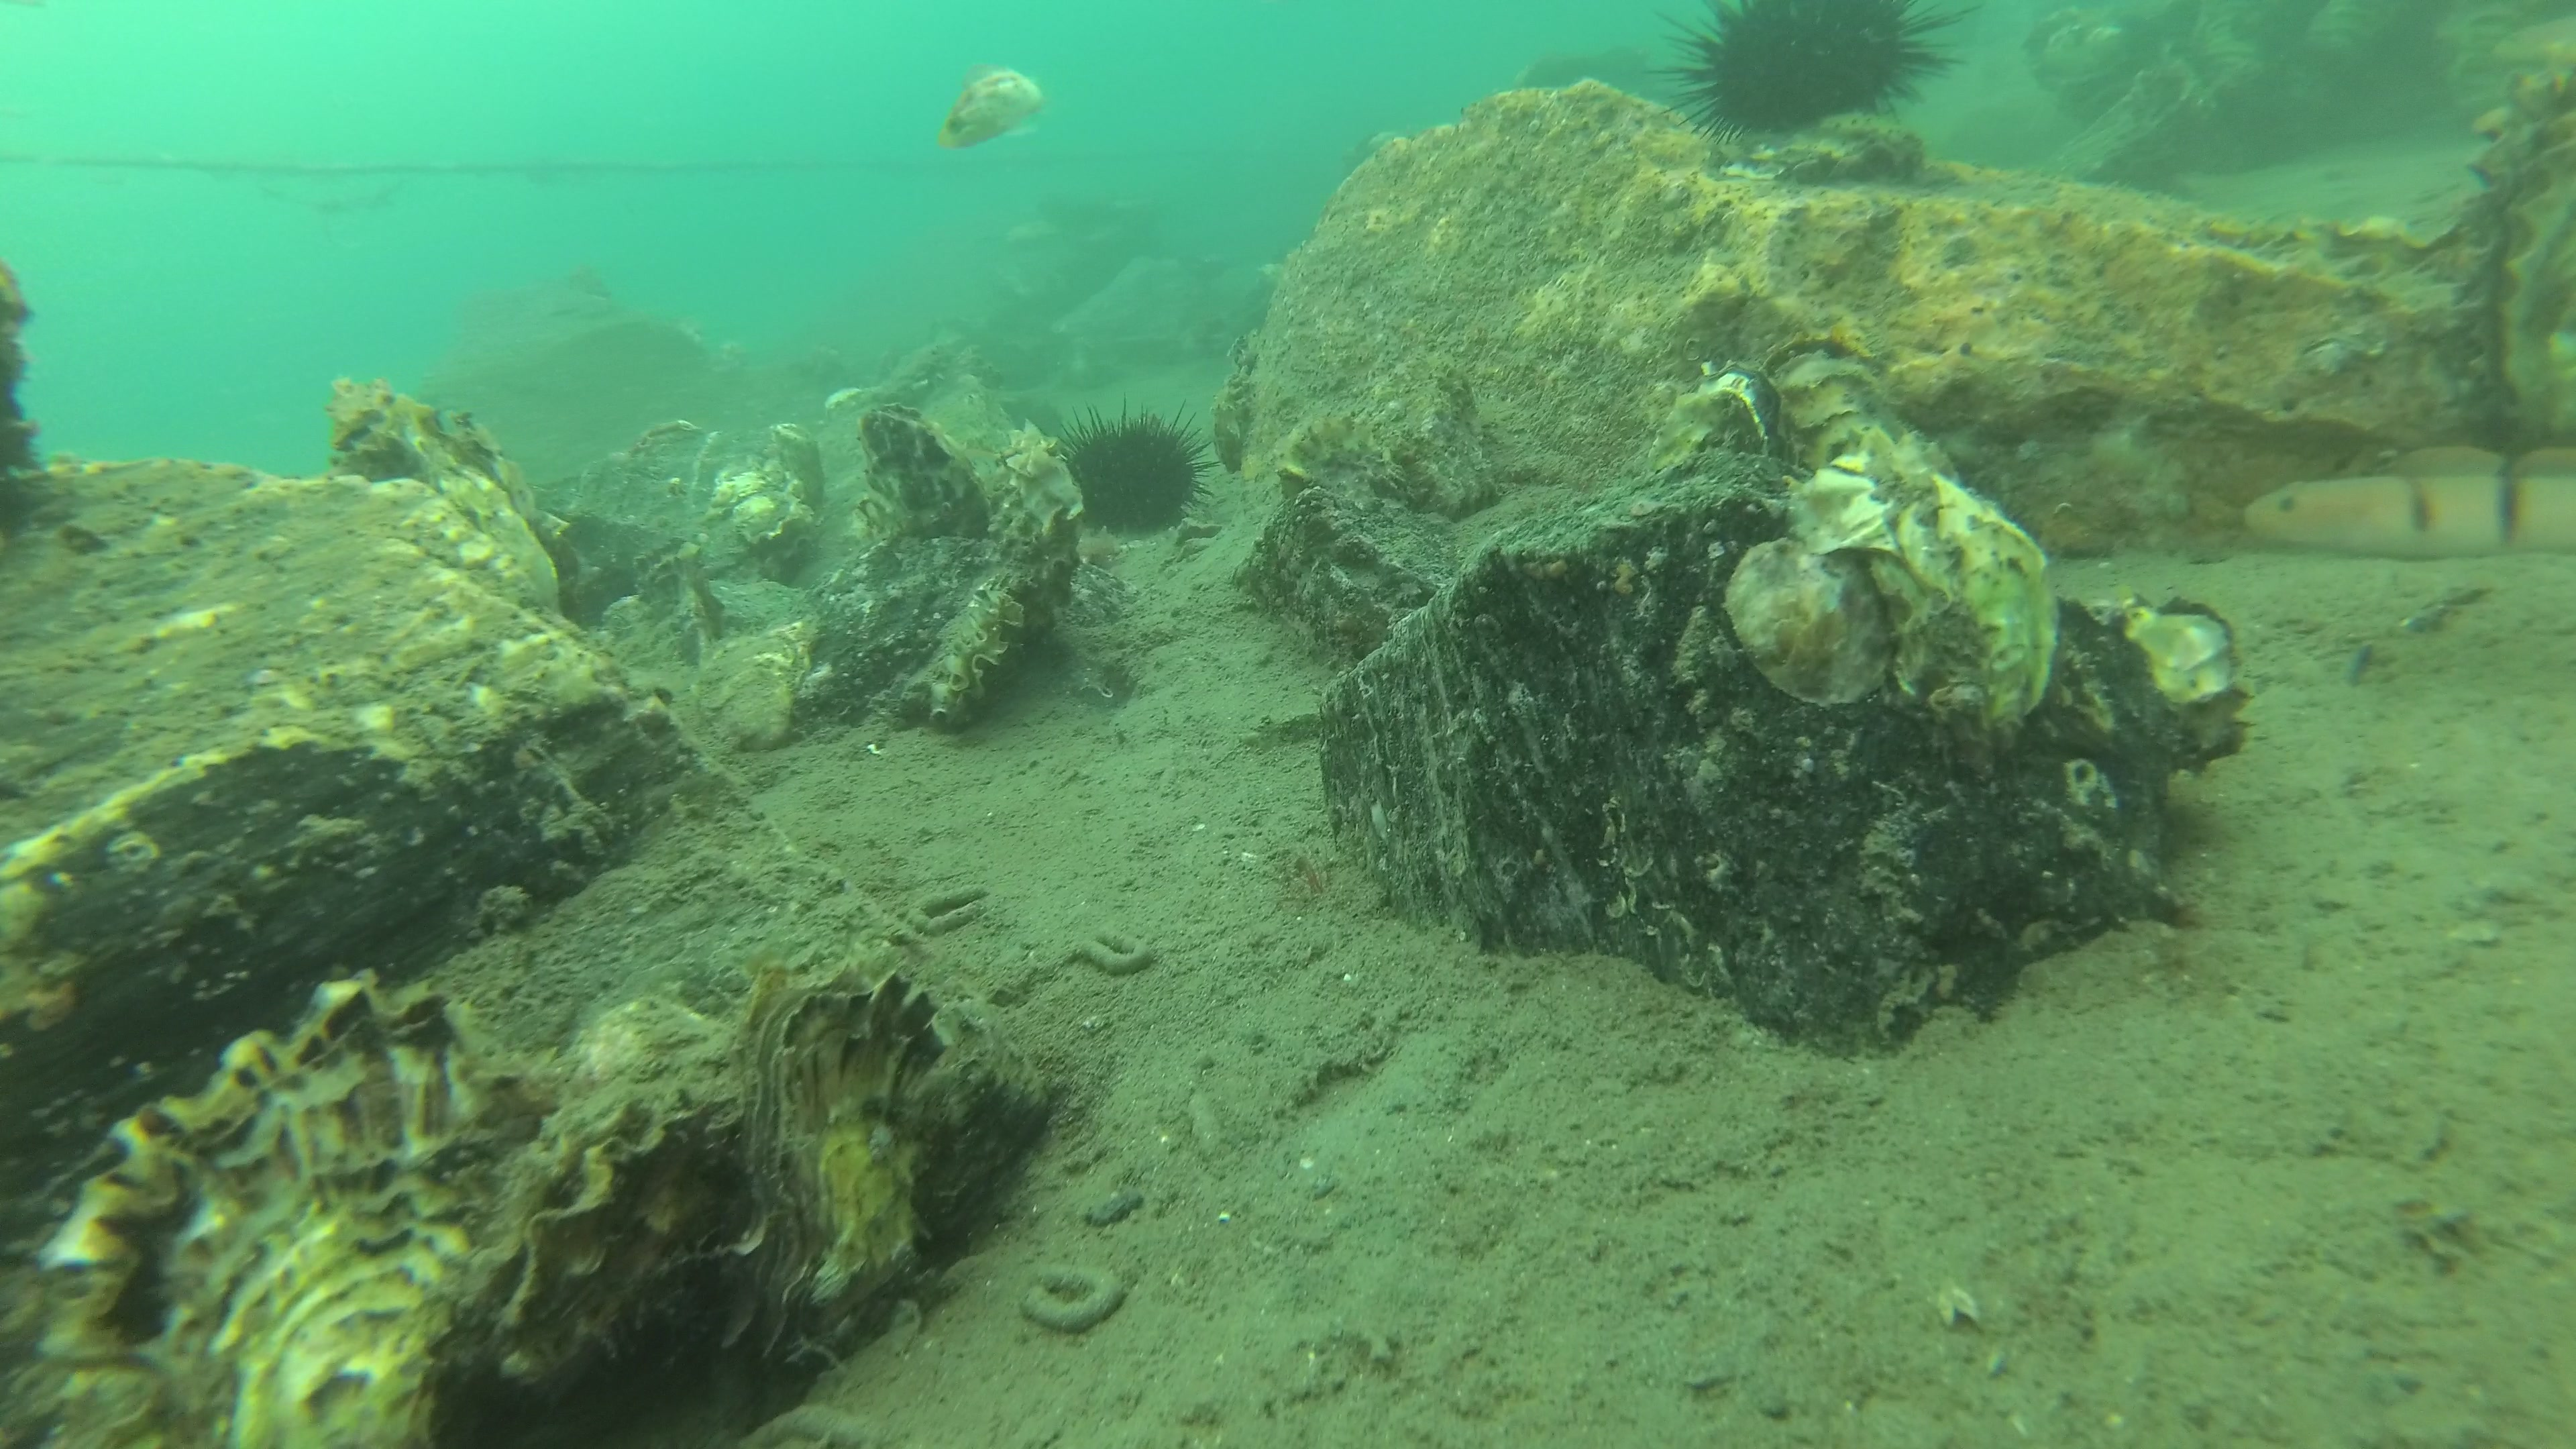echinus: (1642, 0, 1980, 147), (1035, 395, 1219, 534)
